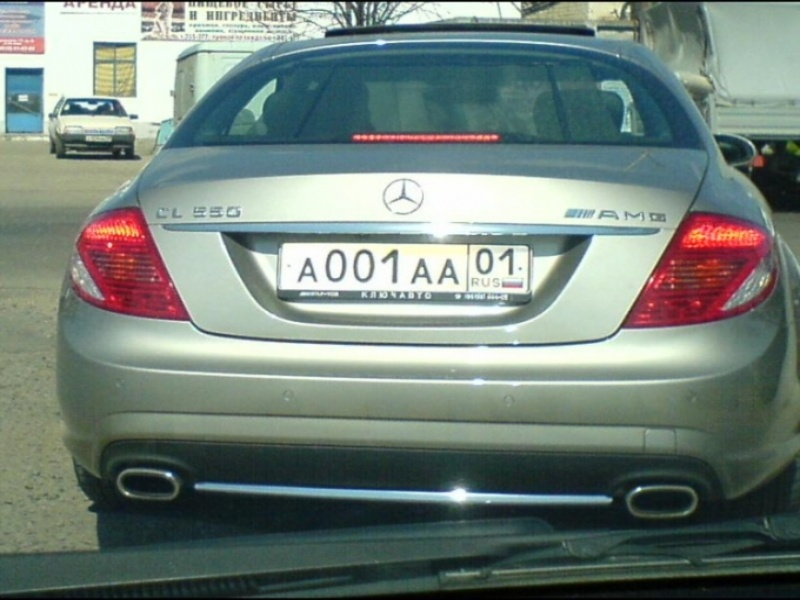car: (54, 27, 800, 514), (47, 94, 138, 158)
plate: (281, 242, 529, 293)
